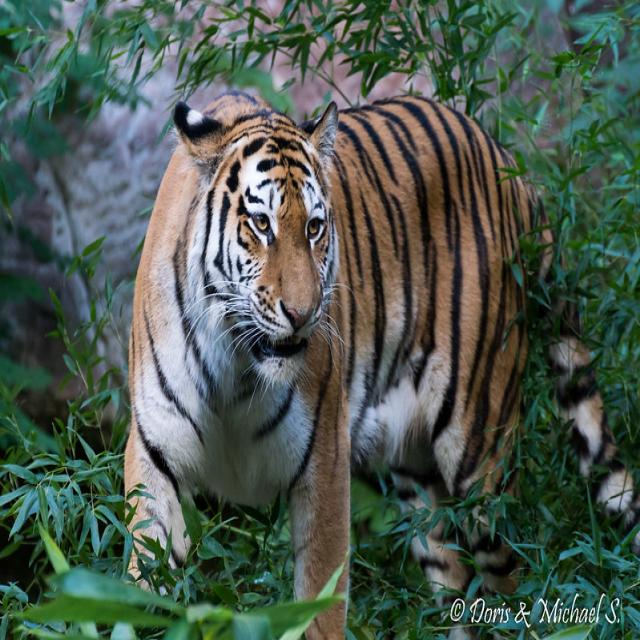Tiger: (111, 76, 578, 638)
